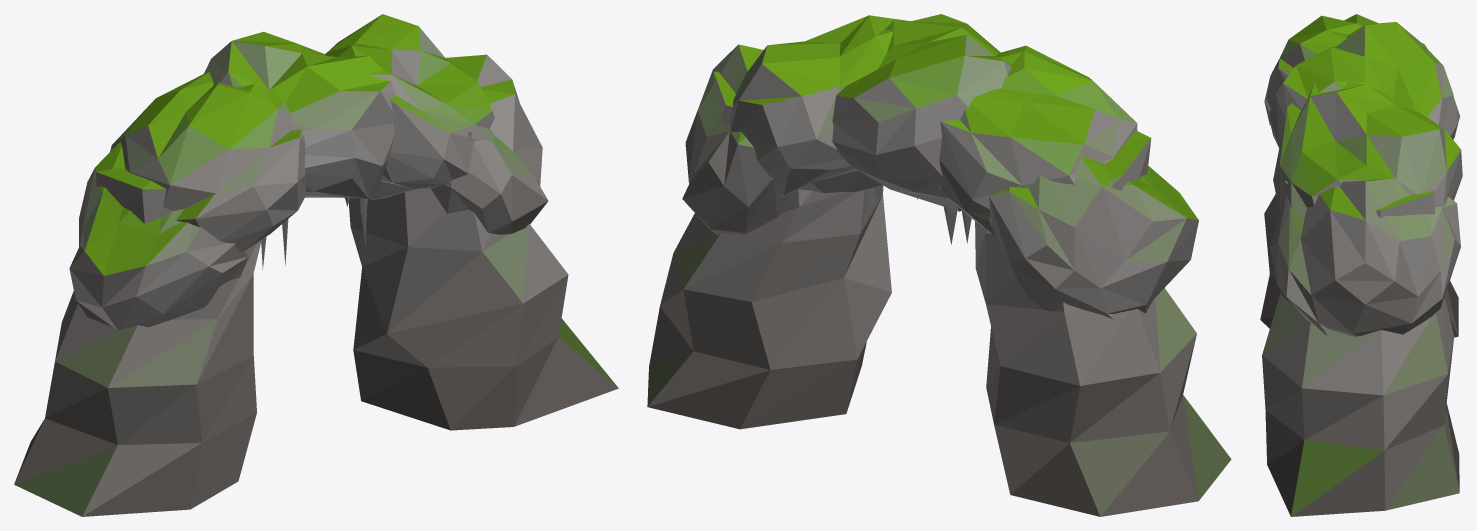
Rendered from batu_arch_limestone_736046.glb.
The picture shows the model from 3 angles, left to right: view 1: azimuth 30°, elevation 25°; view 2: azimuth 150°, elevation 25°; view 3: azimuth 270°, elevation 25°; orthographic projection. The views are drawn at different scales.
Parts seen in each view (by area): view 1: Lengkungan_Gua_Batu; view 2: Lengkungan_Gua_Batu; view 3: Lengkungan_Gua_Batu.
Part boxes in pixels (bbox=[...]): Lengkungan_Gua_Batu: bbox=[14, 14, 618, 516]; Lengkungan_Gua_Batu: bbox=[647, 14, 1231, 516]; Lengkungan_Gua_Batu: bbox=[1260, 14, 1462, 516].
Bounding box in the file's own units: 10.81 × 7.28 × 3.78.
